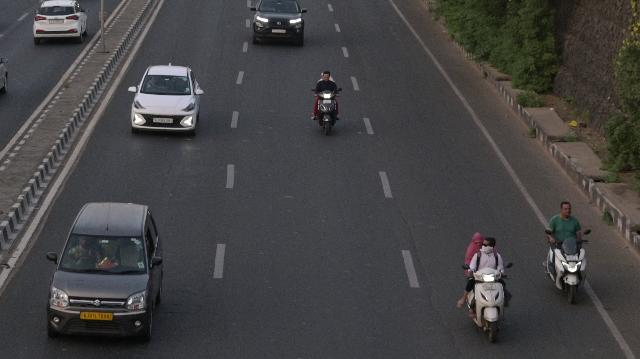Without Helmet: (557, 198, 575, 215), (481, 238, 497, 254), (320, 68, 332, 82), (472, 233, 482, 249)
